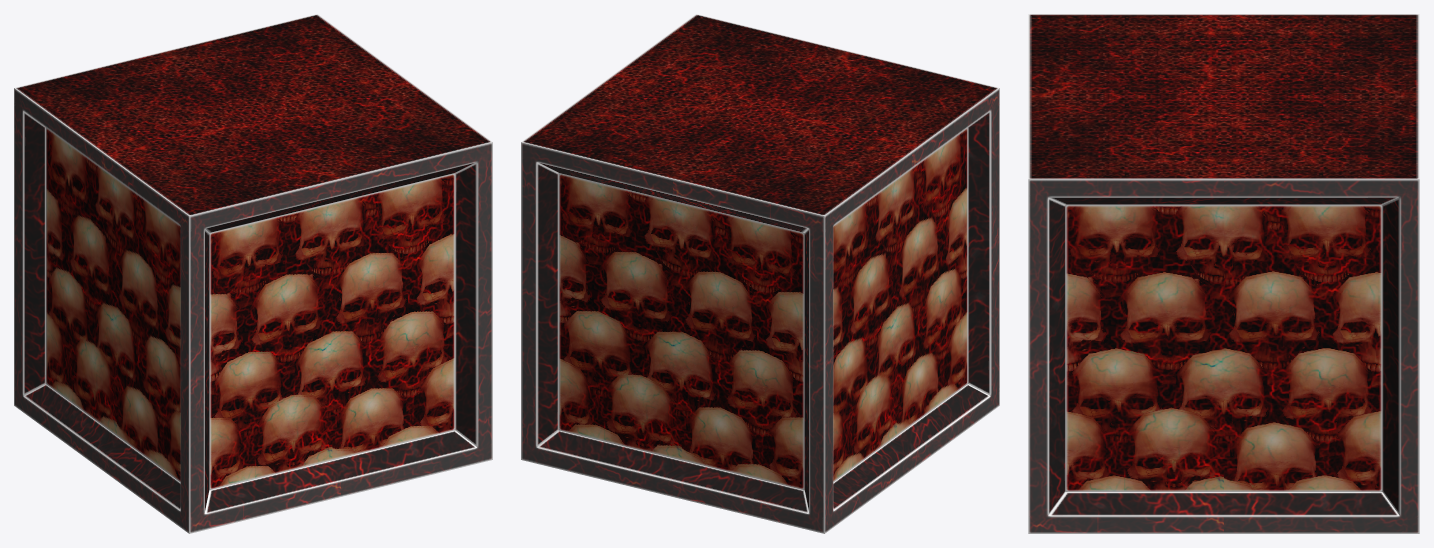
Rendered from CubeDeath.fbx.
The picture shows the model from 3 angles, left to right: view 1: azimuth 30°, elevation 25°; view 2: azimuth 150°, elevation 25°; view 3: azimuth 270°, elevation 25°; orthographic projection. The views are drawn at different scales.
Visible parts, largest first — view 1: Cube; view 2: Cube; view 3: Cube.
Boxes of the visible parts, left/top/right/bottom form: Cube: left=14, top=14, right=492, bottom=533; Cube: left=521, top=14, right=999, bottom=533; Cube: left=1028, top=14, right=1419, bottom=533.
Bounding box in the file's own units: 200 × 200 × 200.
